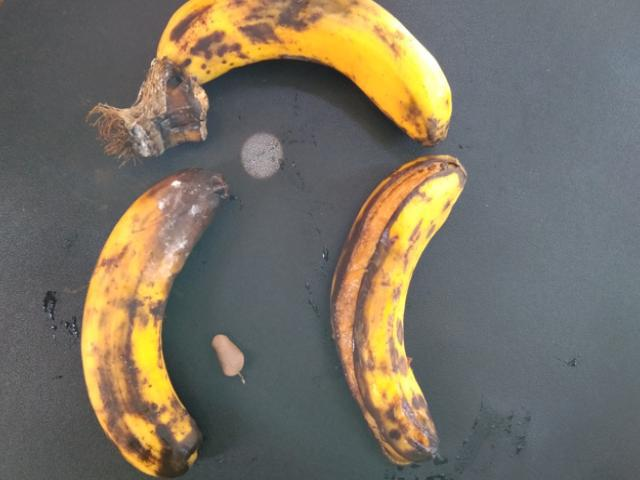overripe: (150, 0, 479, 139)
rotten: (310, 140, 492, 479), (53, 170, 247, 479)
